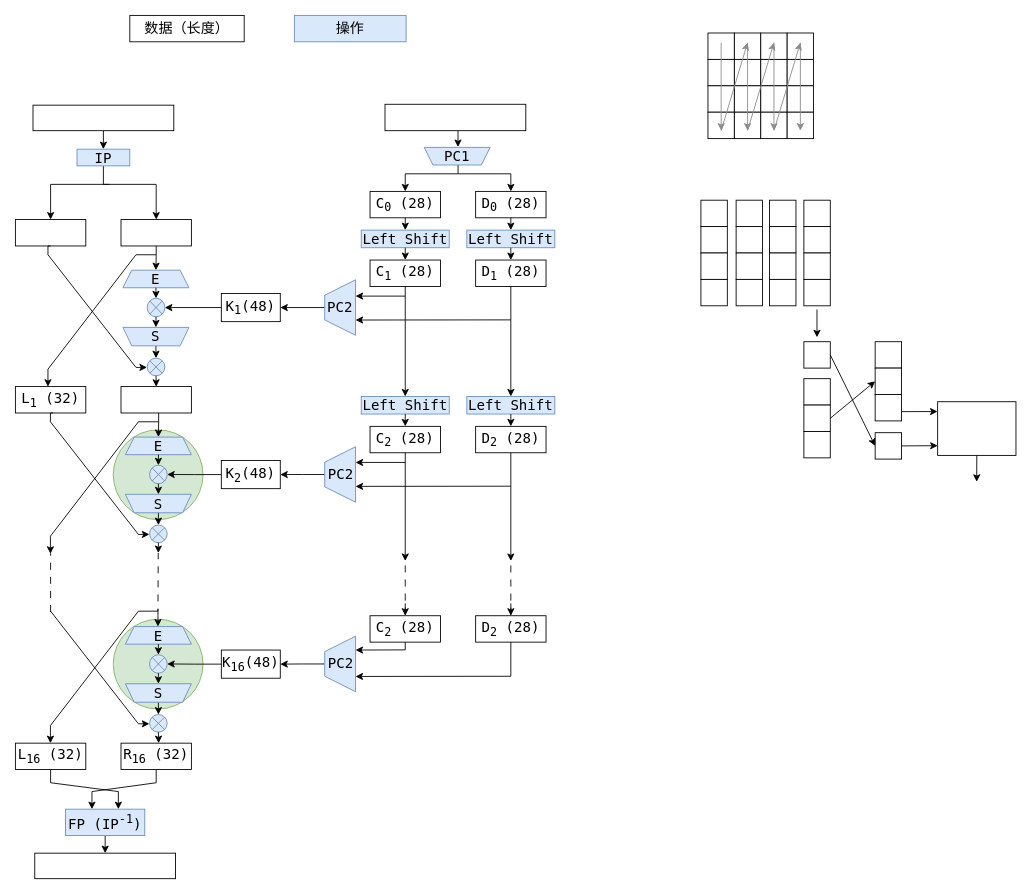
Image size: 1031x894. Some labels were removed from this diagram. Here are the shapes that lost their labels. From the top down, the centre of each, then its label:
point (103, 117): Input (64)
point (455, 117): Key (64)
point (50, 232): L 0 (32)
point (155, 232): R 0 (32)
point (155, 399): R 1 (32)
point (976, 428): sbox
point (105, 865): Output (64)
